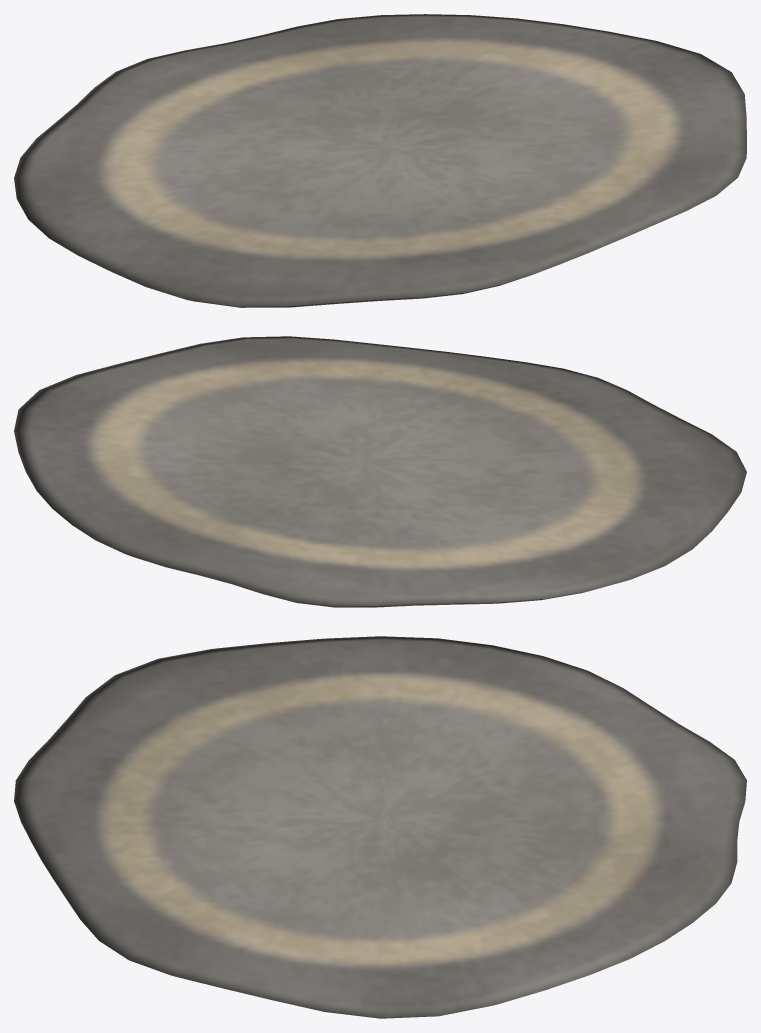
The model's file is SM_Igloo_Rug_3.glb.
The picture shows the model from 3 angles, top to bottom: view 1: azimuth 30°, elevation 25°; view 2: azimuth 150°, elevation 25°; view 3: azimuth 270°, elevation 25°; orthographic projection. The views are drawn at different scales.
Parts seen in each view (by area): view 1: SM_Igloo_Rug_3; view 2: SM_Igloo_Rug_3; view 3: SM_Igloo_Rug_3.
Part boxes in pixels (x1,y1,x2,y2): SM_Igloo_Rug_3: (14, 14, 746, 307); SM_Igloo_Rug_3: (14, 336, 746, 607); SM_Igloo_Rug_3: (14, 636, 746, 1018).
Bounding box in the file's own units: 1.95 × 0.04 × 1.59.
1 material, 1 textured.
